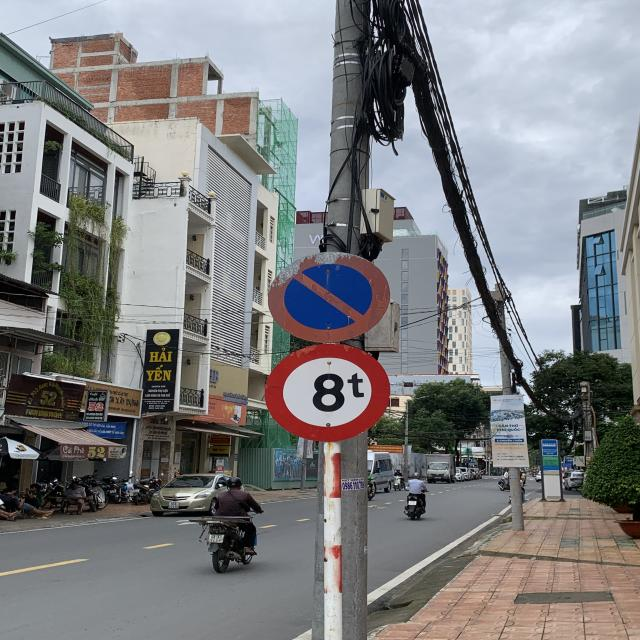Cam_Dau_Xe: (268, 253, 391, 337)
